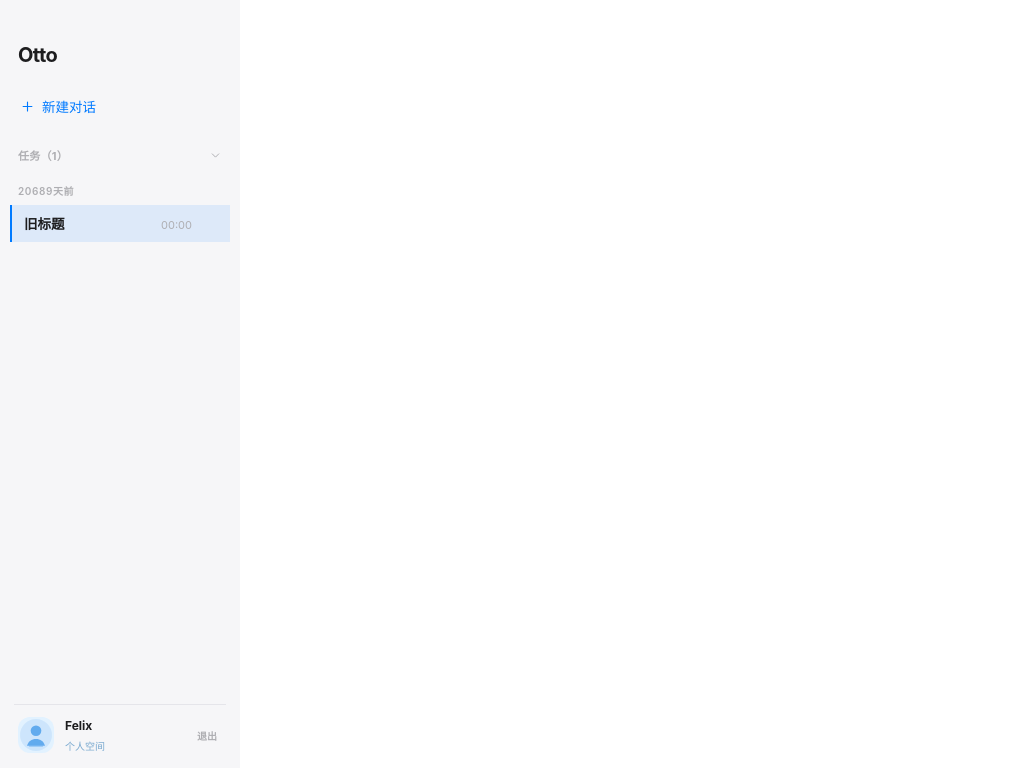
it: Sidebar：布局（工具区已迁右侧面板） › 个人版账号也始终显示账户区和退出登录入口
Expected: the text "Felix" is shown, [65,718,92,733]
Click the button with aria-label "退出登录" at [207, 736], box [192,722,222,750]
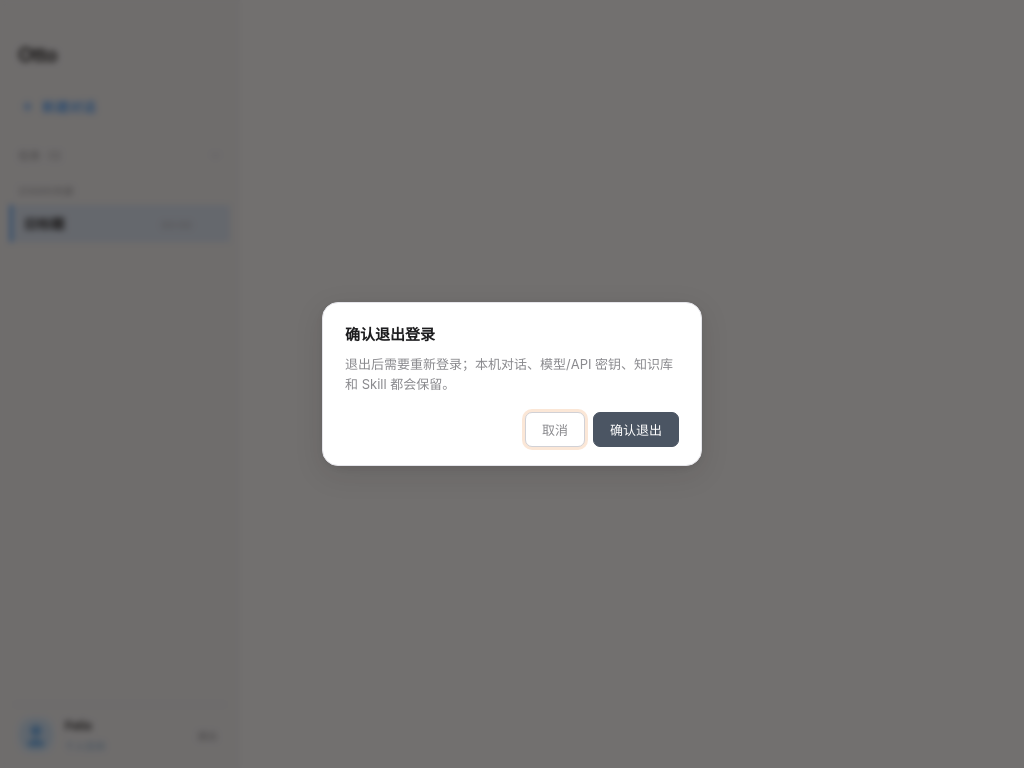
Expected: the dialog "确认退出登录" is shown, [322,302,702,466]
Click the button "确认退出" at [636, 430], box [593,412,679,447]
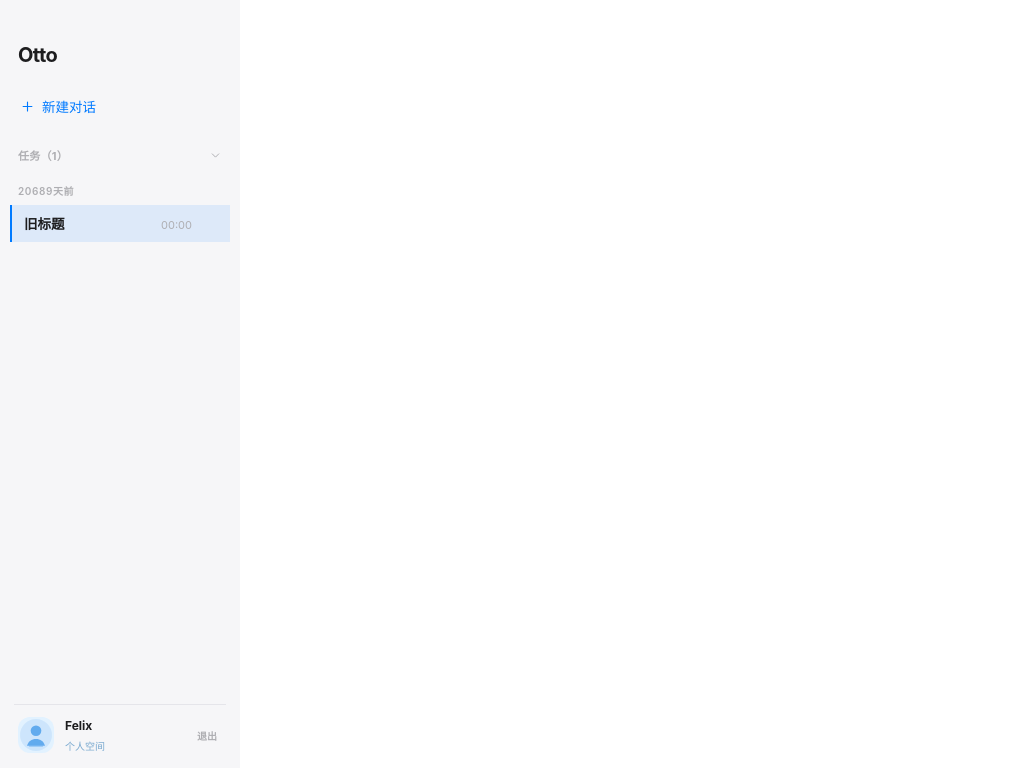
Expected: the heading "确认退出登录" is gone
